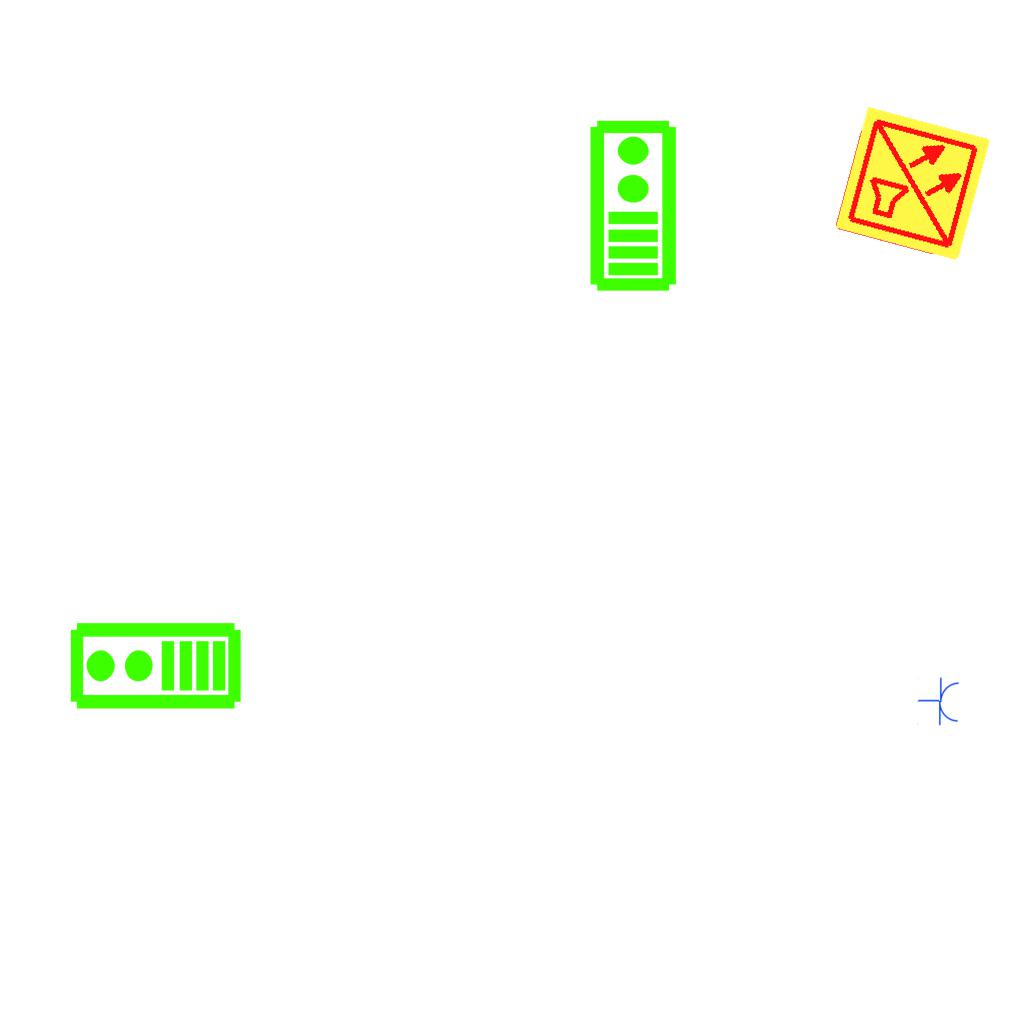Gegensprechanlage_mit_Video: (584, 117, 679, 293), (67, 620, 243, 715)
OKW_Multisensormelder_(Kombination_optischer_Rauch-Kahlenmonoxid_Waerme-Melder): (832, 103, 994, 265)
Schukosteckdose_einfach: (916, 675, 962, 728)
